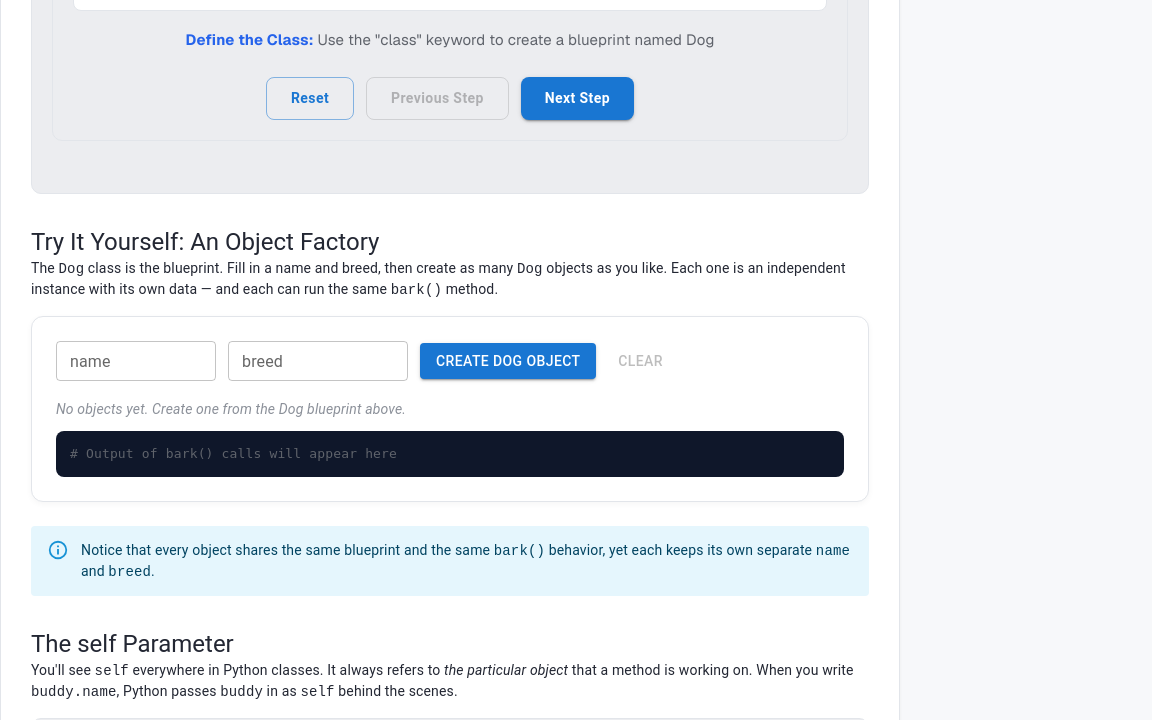
Test: ClassesObjectsConcept › creates an object from typed values
(page scrolled)
Type "Rex" into the field labelled "name". click: (136, 361)
box: [56,341,216,381]
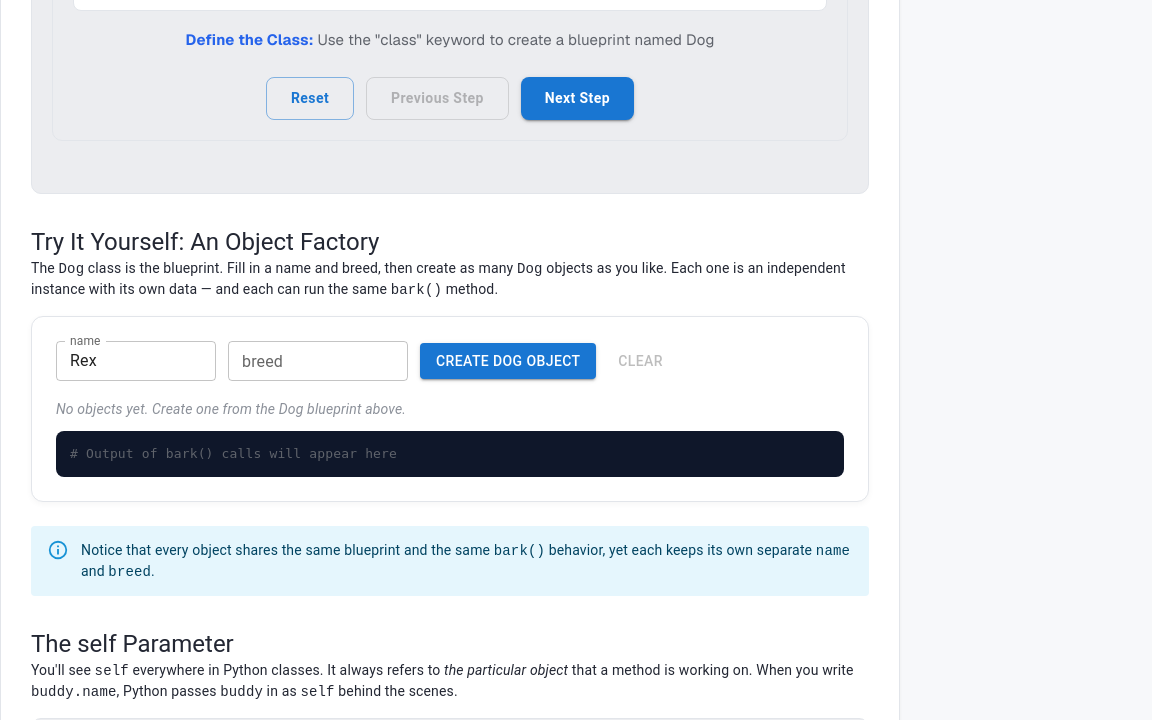
Type "Beagle" into the field labelled "breed". click: (318, 361)
box: [228,341,408,381]
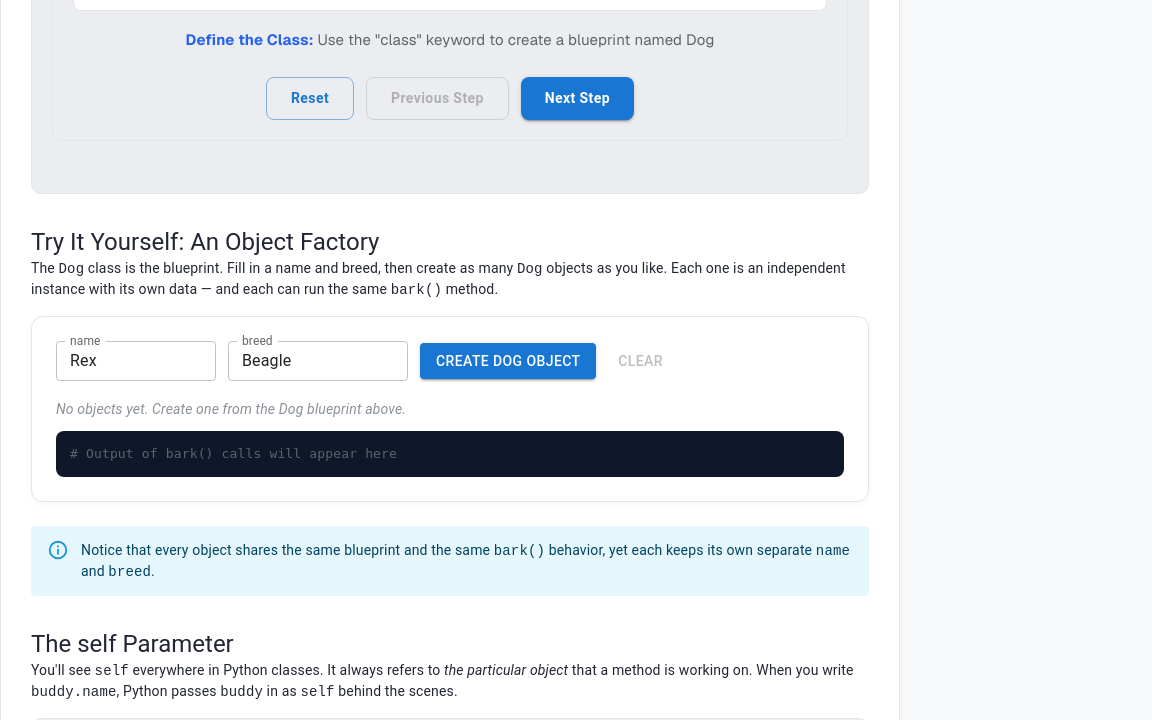
Click the button "Create Dog object". click: (508, 361)
box: [420,343,596,379]
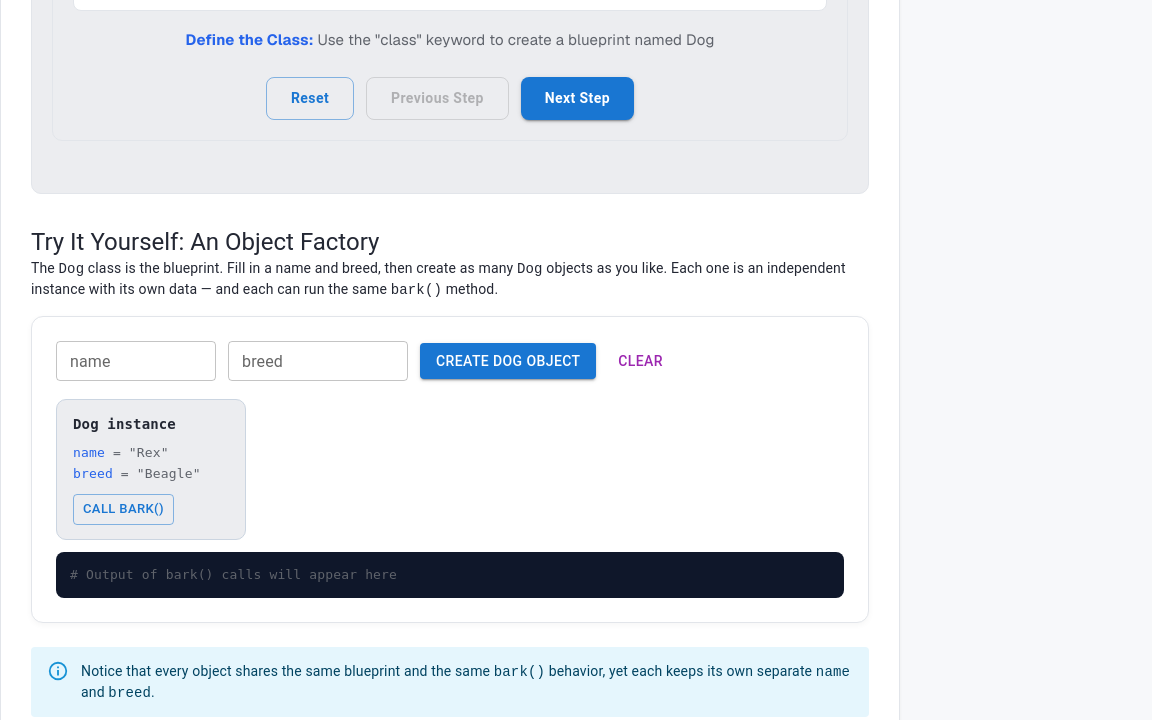
Expected: the number of elements with class "obj-card" is 1, [56,399,246,540]
Expected: the text "name = \"Rex\"" is shown, [73,445,169,460]
Expected: the text "breed = \"Beagle\"" is shown, [73,466,201,481]
